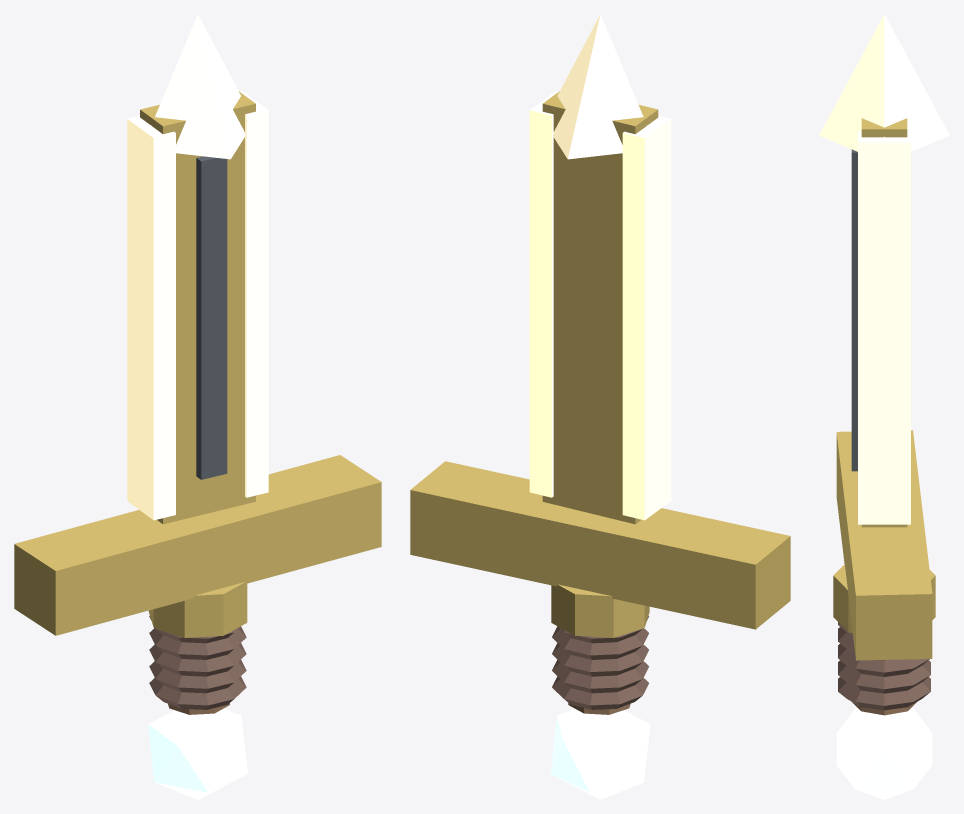
Rendered from golden_sword.glb.
The picture shows the model from 3 angles, left to right: view 1: azimuth 30°, elevation 25°; view 2: azimuth 150°, elevation 25°; view 3: azimuth 270°, elevation 25°; orthographic projection.
Parts seen in each view (by area): view 1: Crossguard.004, EdgeLeft.004, Blade.004, Fuller.006, EdgeRight.004, BladePoint.004, Pommel.004, GripFerrule.004, GripWrap_1.014, GripWrap_3.014, GripWrap_0.014, GripWrap_2.014; view 2: Crossguard.004, Blade.004, EdgeLeft.004, EdgeRight.004, BladePoint.004, Pommel.004, GripFerrule.004, GripWrap_1.014, GripWrap_2.014, GripWrap_0.014, GripWrap_3.014; view 3: EdgeRight.004, Crossguard.004, BladePoint.004, Pommel.004, Fuller.006, GripWrap_0.014, GripWrap_1.014, GripWrap_2.014, GripFerrule.004, Blade.004, GripCore.004, GripWrap_3.014.
Part boxes in pixels (x1,y1,x2,y2): Crossguard.004: [14, 455, 381, 635]; EdgeLeft.004: [127, 116, 175, 520]; Blade.004: [140, 91, 255, 524]; Fuller.006: [196, 156, 227, 479]; EdgeRight.004: [239, 91, 268, 497]; BladePoint.004: [151, 14, 245, 159]; Pommel.004: [148, 708, 247, 799]; GripFerrule.004: [148, 581, 247, 637]; GripWrap_1.014: [149, 660, 246, 693]; GripWrap_3.014: [149, 626, 246, 659]; GripWrap_0.014: [149, 676, 246, 709]; GripWrap_2.014: [149, 643, 246, 676]; Crossguard.004: [410, 461, 790, 629]; Blade.004: [542, 91, 658, 524]; EdgeLeft.004: [622, 116, 671, 520]; EdgeRight.004: [529, 91, 558, 497]; BladePoint.004: [553, 14, 647, 159]; Pommel.004: [550, 708, 650, 799]; GripFerrule.004: [551, 584, 649, 637]; GripWrap_1.014: [552, 659, 648, 693]; GripWrap_2.014: [552, 643, 648, 676]; GripWrap_0.014: [552, 676, 648, 709]; GripWrap_3.014: [552, 626, 648, 659]; EdgeRight.004: [858, 131, 910, 524]; Crossguard.004: [836, 430, 932, 660]; BladePoint.004: [819, 14, 949, 151]; Pommel.004: [836, 708, 932, 799]; Fuller.006: [851, 149, 857, 471]; GripWrap_0.014: [838, 677, 930, 710]; GripWrap_1.014: [838, 660, 930, 693]; GripWrap_2.014: [838, 643, 929, 676]; GripFerrule.004: [833, 564, 935, 632]; Blade.004: [861, 118, 907, 527]; GripCore.004: [852, 702, 916, 715]; GripWrap_3.014: [838, 627, 885, 660].
Bounding box in the file's own units: 0.7665 × 1.7 × 0.2562.
